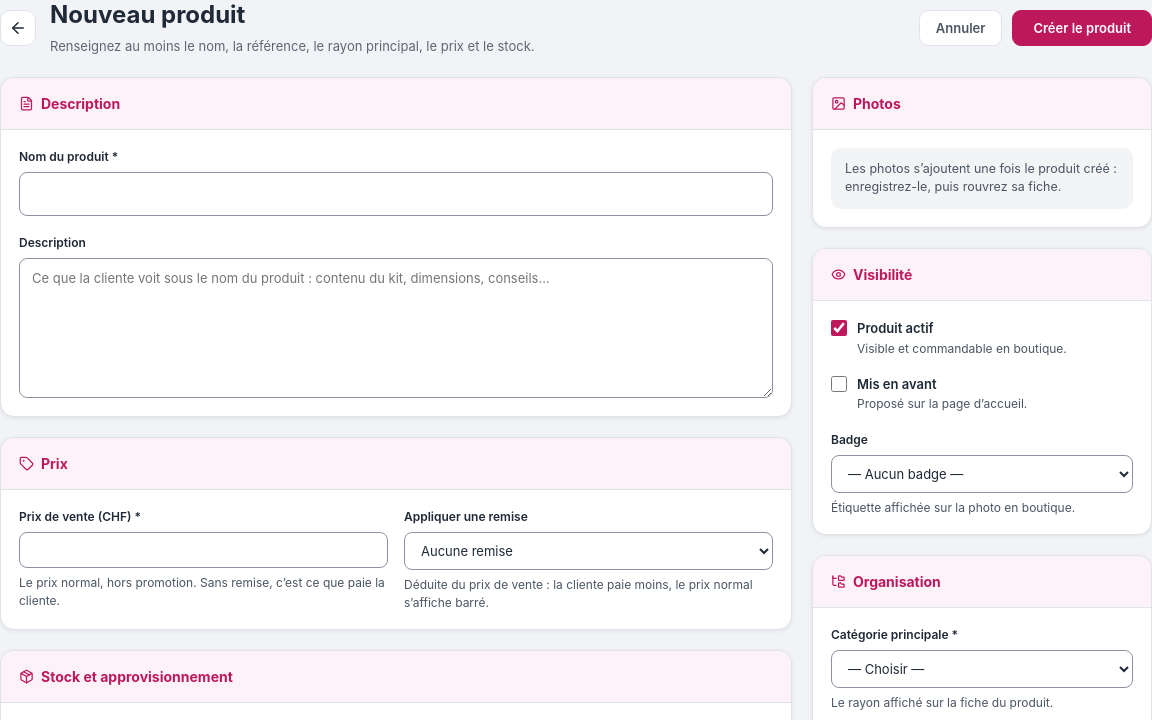
Test: ProductForm — aperçu boutique › déduit le prix payé du prix de vente avec une réduction en pourcentage
Type "100" into the number field labelled "Prix de vente (CHF) *" at (204, 550), box [19, 532, 388, 568]
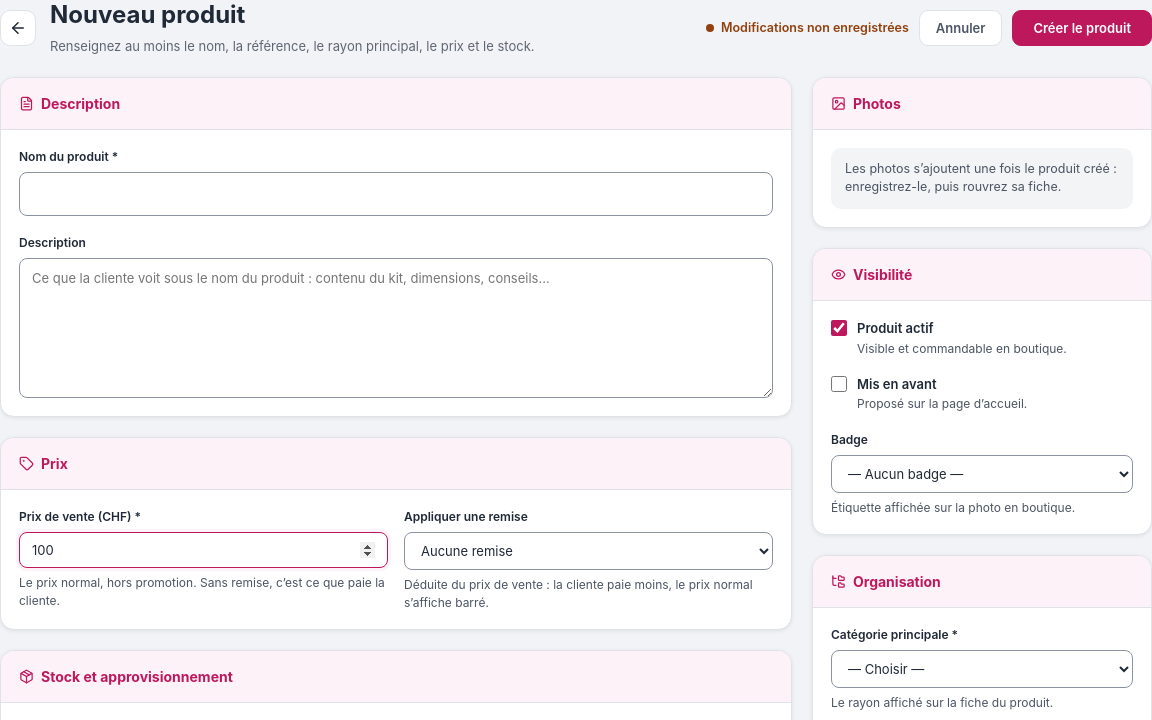
Select "Remise en %" in the dropdown labelled "Appliquer une remise" at (588, 551), box [404, 532, 773, 570]
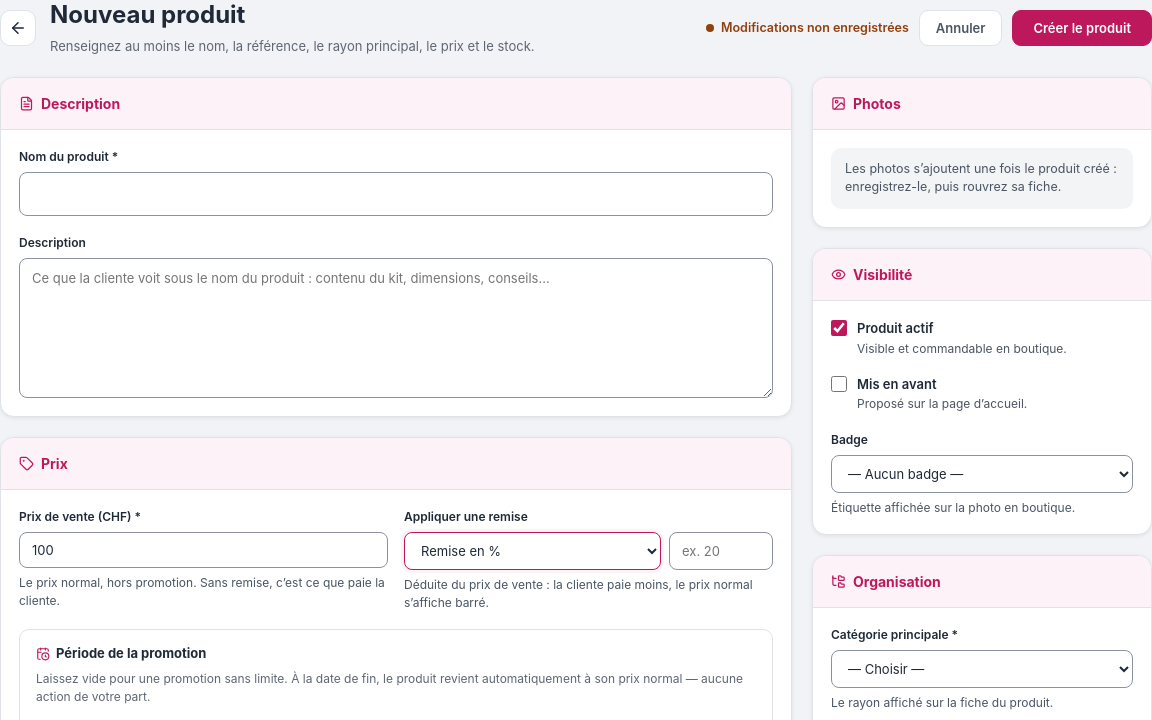
Type "25" into the number field named "Valeur de la réduction" at (721, 551), box [669, 532, 773, 570]
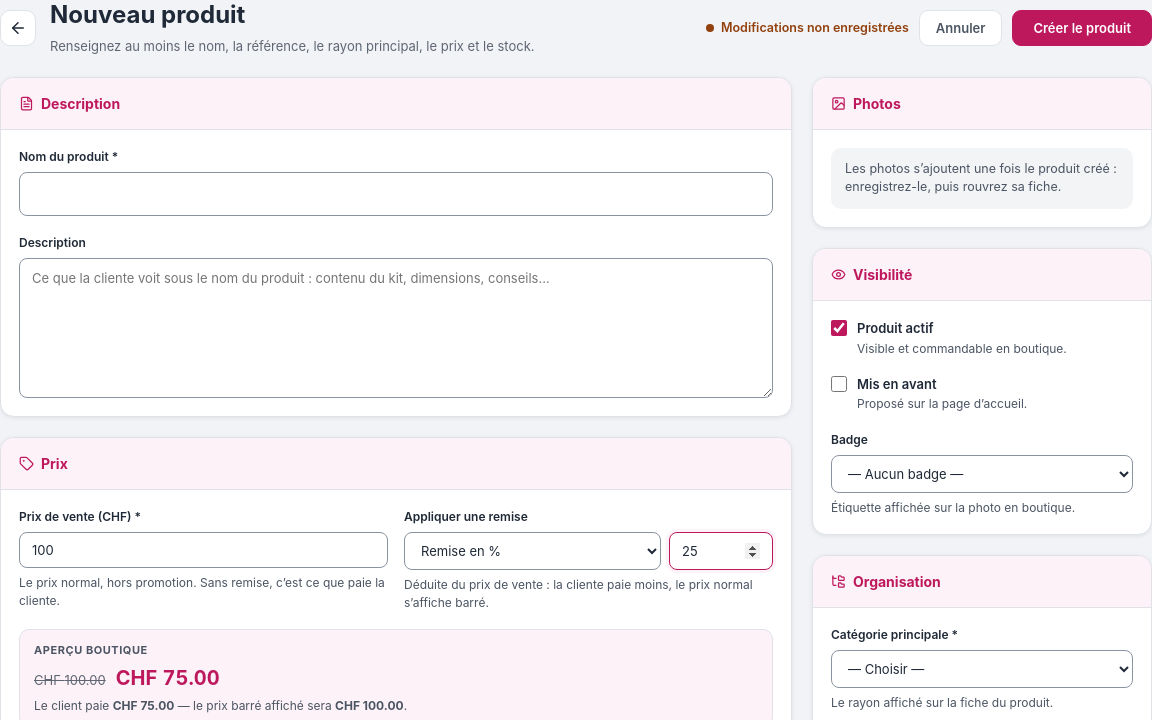
Expected: the text "Aperçu boutique" is shown, [34, 643, 148, 657]
Expected: the 1st text "CHF 100.00" is shown, [34, 671, 106, 690]
Expected: the 1st text "CHF 75.00" is shown, [116, 663, 220, 693]
